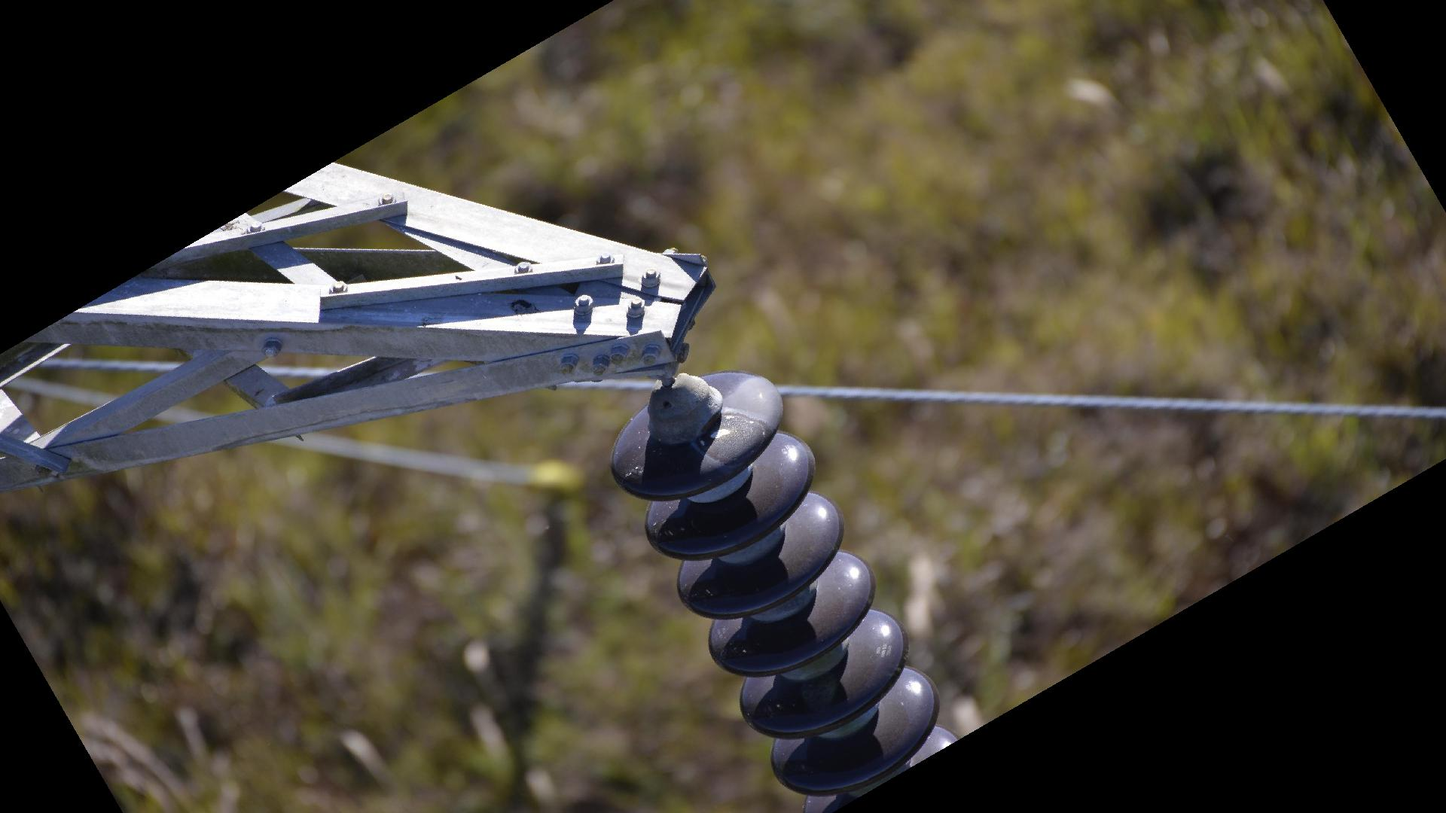insulator: (605, 364, 959, 813)
insulator_flashover: (694, 409, 776, 468)
